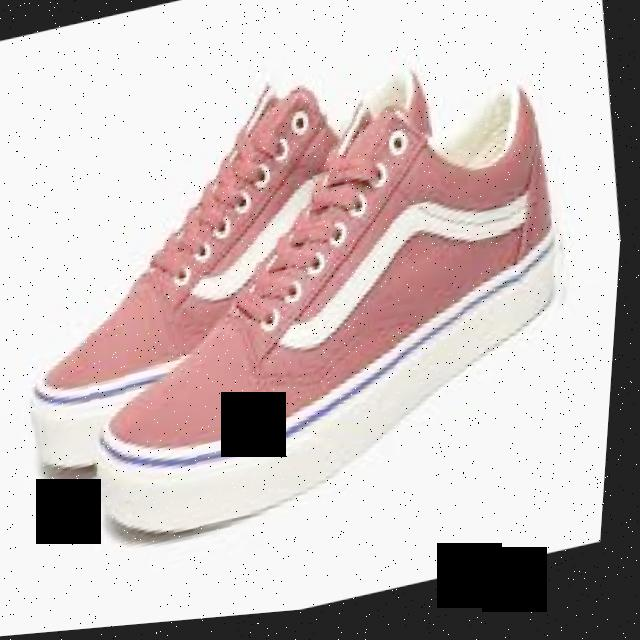shoe: (0, 22, 615, 582), (60, 43, 606, 561)
